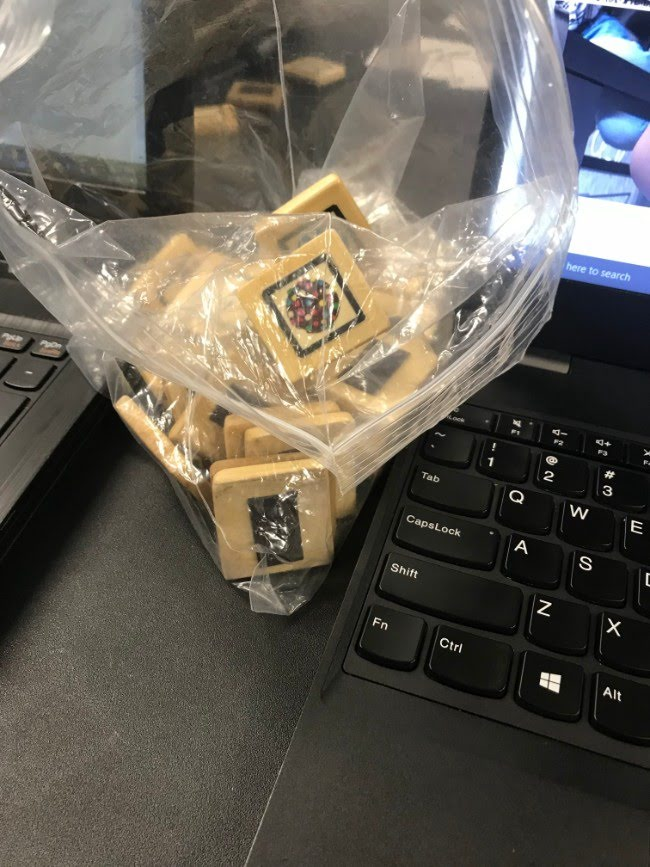cookie: (262, 252, 365, 358)
